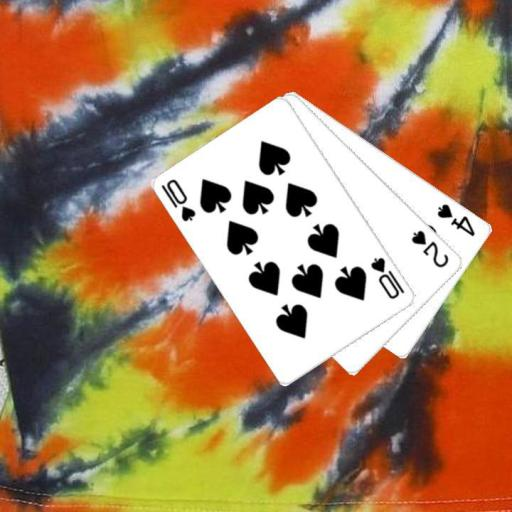10S: (368, 254, 407, 301), (159, 176, 198, 223)
2S: (408, 227, 451, 269)
4S: (435, 201, 477, 238)
